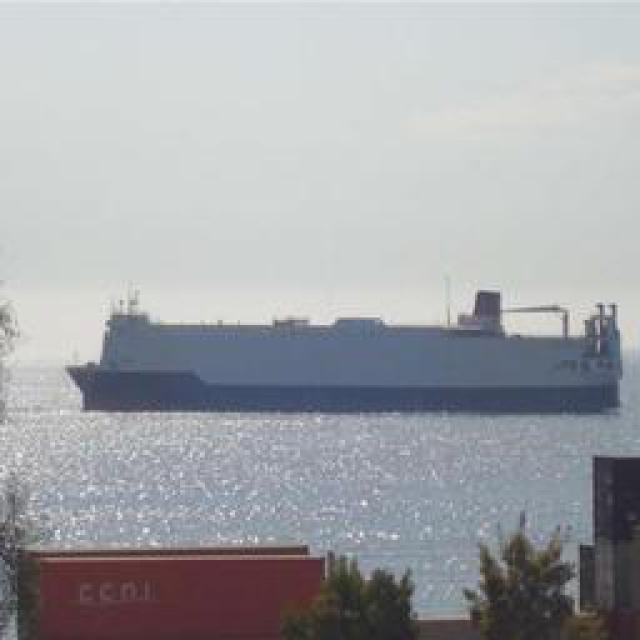Ship: (63, 289, 621, 414)
